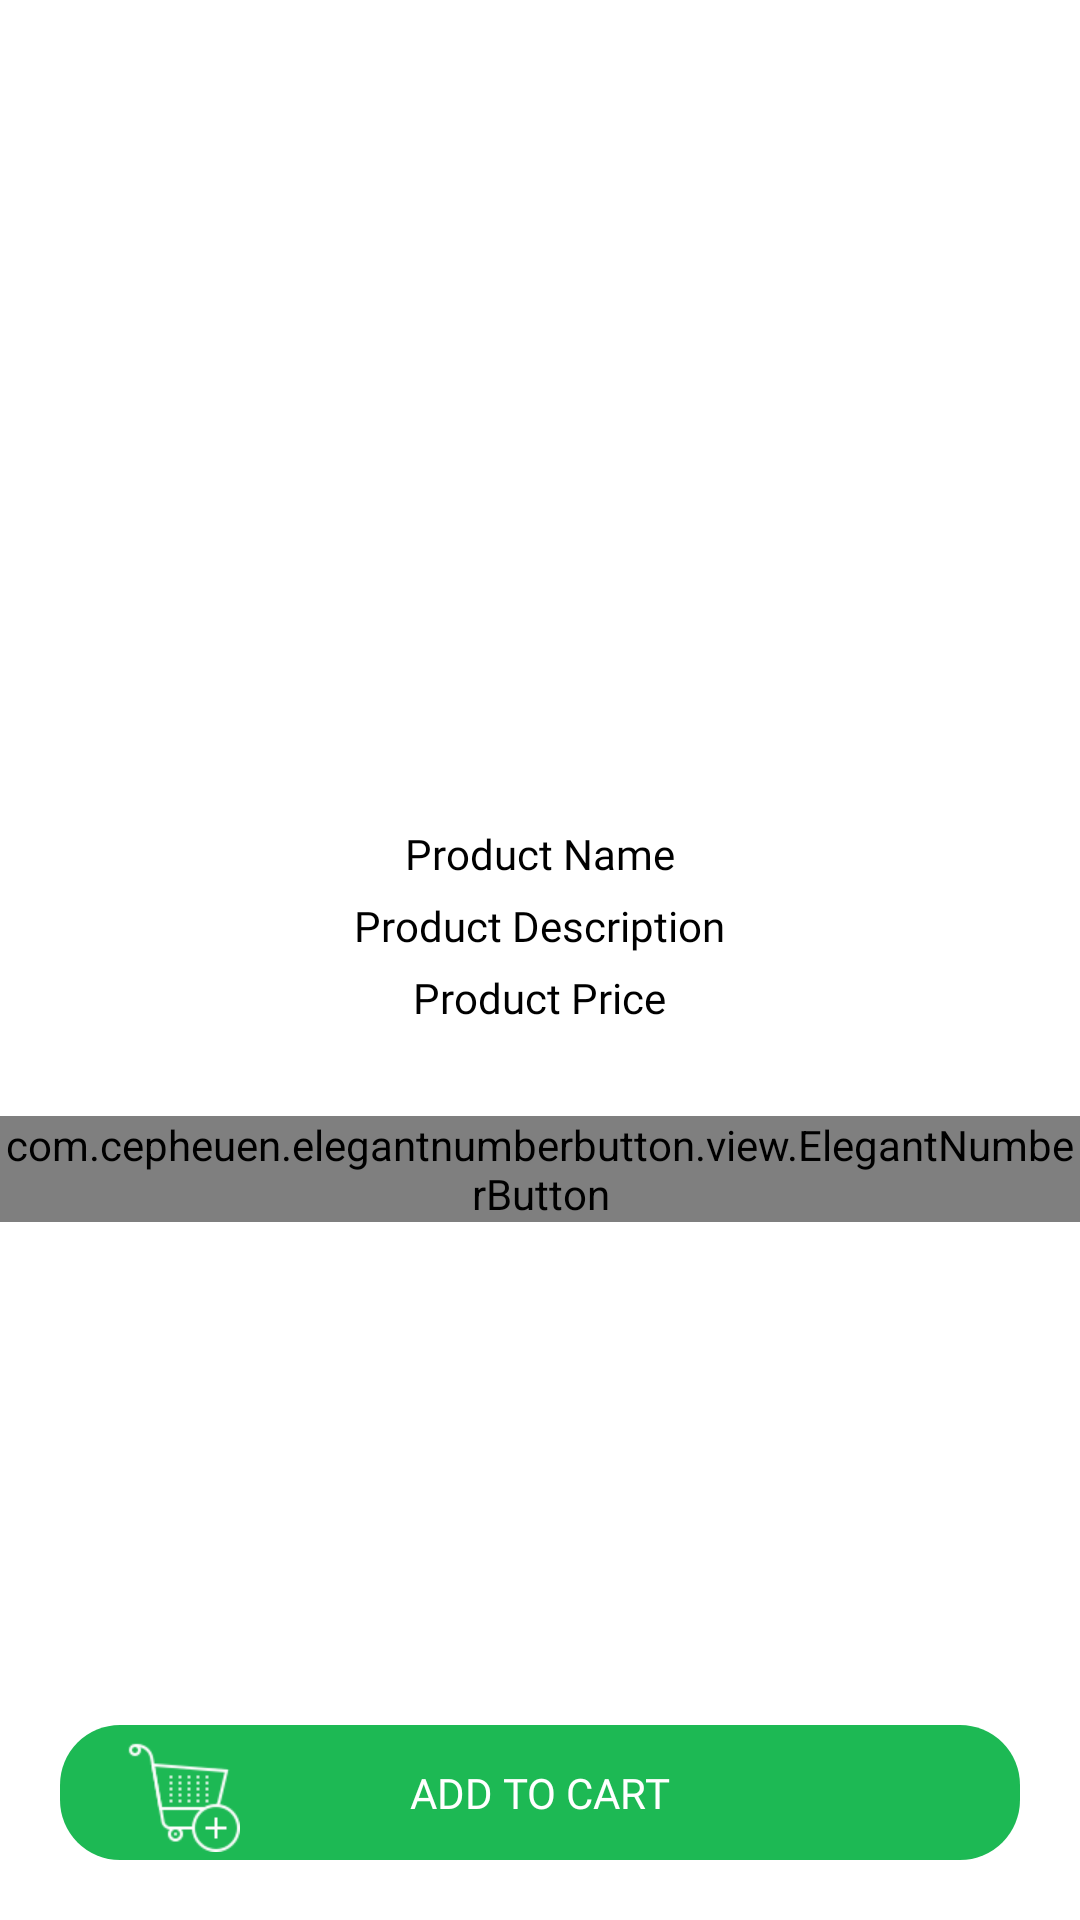

Locate icon controls on the screen. Image size 1080 x 1920, boxes as Rect(x1, y1, x2, y2).
cart: Rect(128, 1743, 240, 1852)
